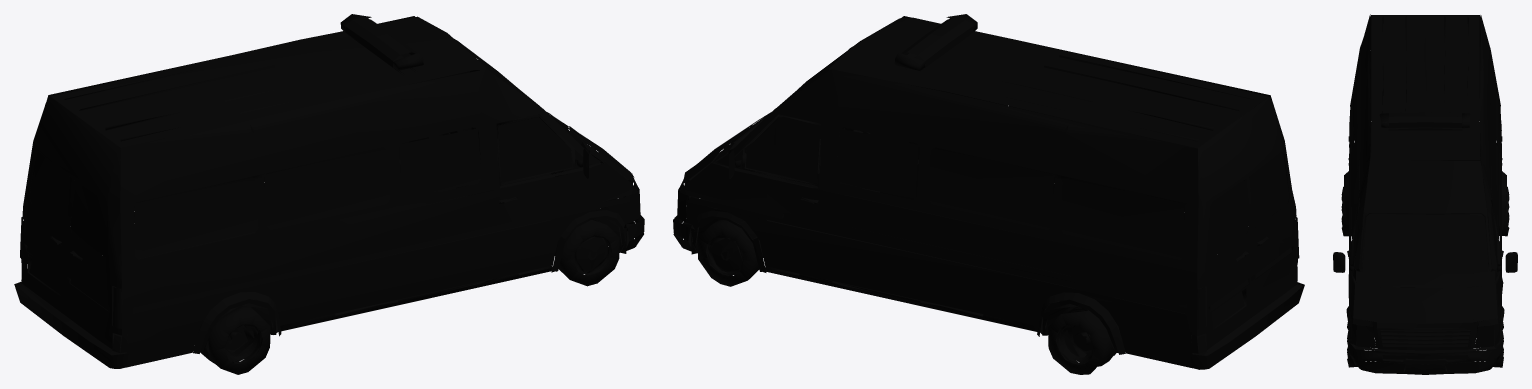
The model's file is v_ambulance_lod1.glb.
The picture shows the model from 3 angles, left to right: view 1: azimuth 30°, elevation 25°; view 2: azimuth 150°, elevation 25°; view 3: azimuth 270°, elevation 25°; orthographic projection. The views are drawn at different scales.
Visible parts, largest first — view 1: v_ambulance_lod1; view 2: v_ambulance_lod1; view 3: v_ambulance_lod1.
Boxes of the visible parts, box(x1,y1,x2,y2) form: v_ambulance_lod1: box(14, 14, 644, 374); v_ambulance_lod1: box(673, 14, 1304, 374); v_ambulance_lod1: box(1333, 14, 1517, 374).
Bounding box in the file's own units: 6 × 2.63 × 2.29.
1 material, 1 textured.
